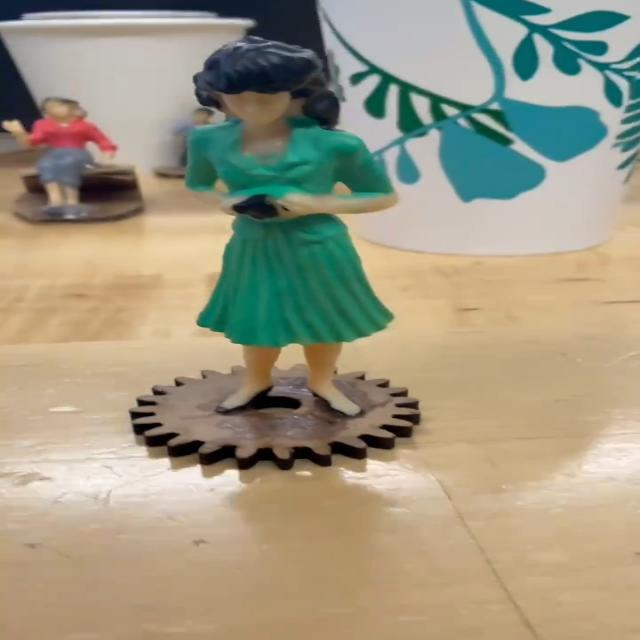Authorized: (173, 34, 393, 432)
